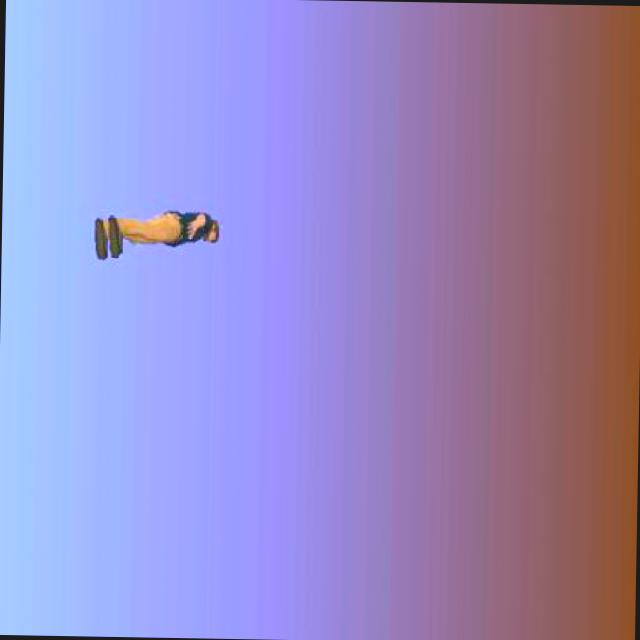Person: (91, 204, 223, 264)
